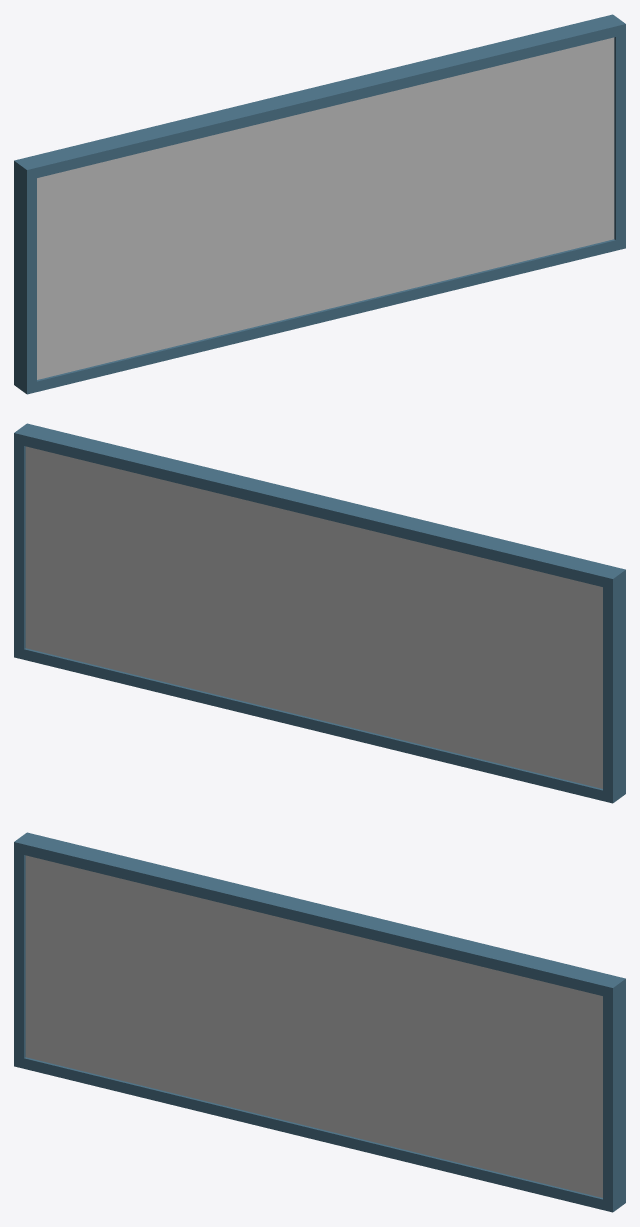
File: Sign_SnackDandy.fbx
The picture shows the model from 3 angles, top to bottom: view 1: azimuth 30°, elevation 25°; view 2: azimuth 150°, elevation 25°; view 3: azimuth 330°, elevation 25°; orthographic projection.
Visible parts, largest first — view 1: Cube.471; view 2: Cube.471; view 3: Cube.471.
Boxes of the visible parts, bbox=[...] form: Cube.471: bbox=[14, 14, 625, 394]; Cube.471: bbox=[14, 423, 625, 803]; Cube.471: bbox=[14, 832, 625, 1212].
Size of the model in its own units: 223 by 79.87 by 8.41.
